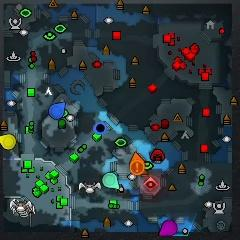Other: (130, 160, 144, 175), (144, 177, 158, 192)
p1: (49, 101, 66, 119)
p1Clone: (94, 122, 106, 133)
p2: (103, 172, 119, 188)
p3: (158, 220, 178, 236)
p4: (0, 133, 16, 150)
p5: (131, 152, 145, 171)
